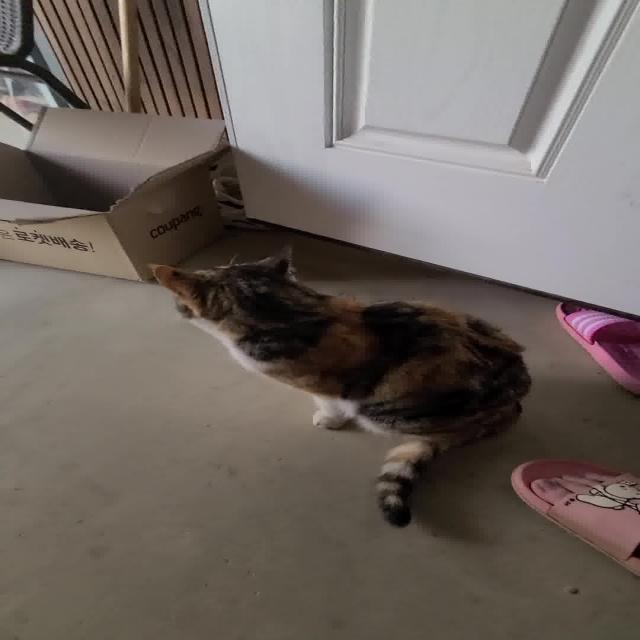cat: (140, 242, 542, 530)
